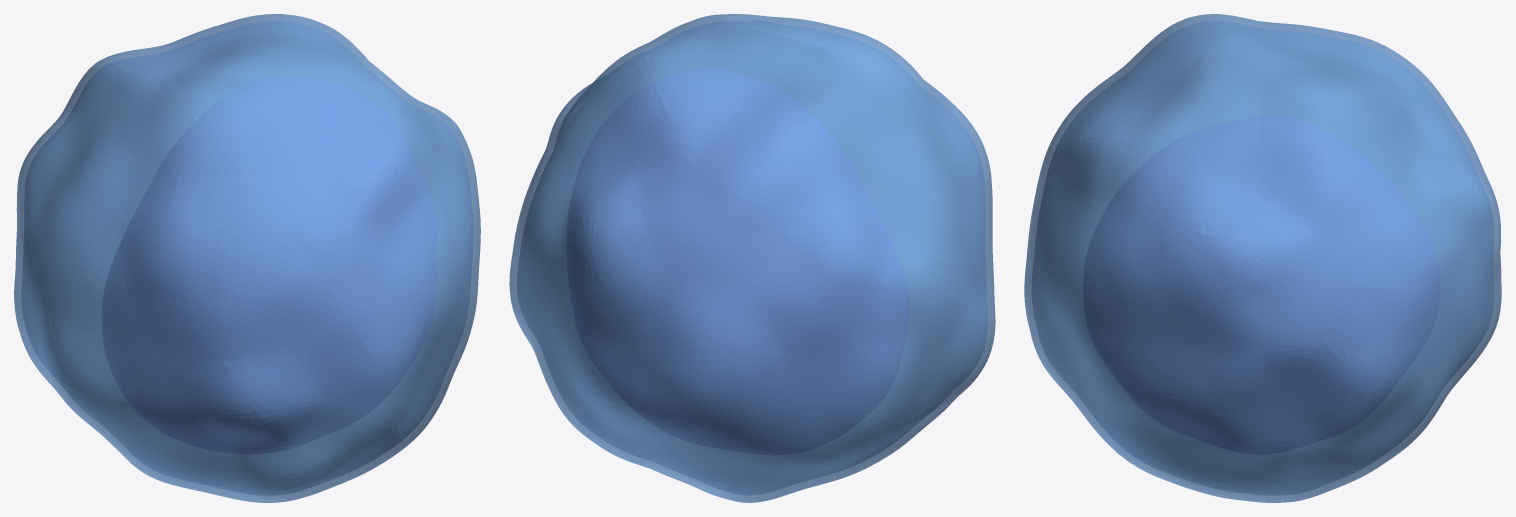
The model's file is lympocyte.fbx.
3 views of the same model, side by side, from view 1: azimuth 30°, elevation 25°; view 2: azimuth 150°, elevation 25°; view 3: azimuth 270°, elevation 25° (orthographic). The views are drawn at different scales.
Visible parts, largest first — view 1: Icosphere.001; view 2: Icosphere.001; view 3: Icosphere.001.
Boxes of the visible parts, x1,y1,x2,y2 form: Icosphere.001: [14, 14, 480, 502]; Icosphere.001: [509, 14, 995, 502]; Icosphere.001: [1024, 14, 1501, 502].
Bounding box in the file's own units: 491 × 502 × 497.
